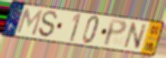0: (82, 15, 102, 46)
1: (69, 13, 83, 43)
M: (15, 7, 44, 37)
N: (122, 21, 149, 51)
P: (103, 18, 128, 48)
S: (37, 10, 59, 39)
